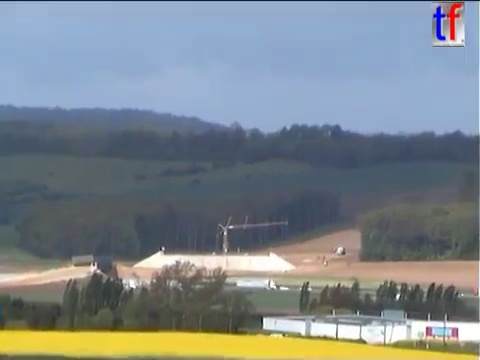crane: (214, 213, 293, 256)
